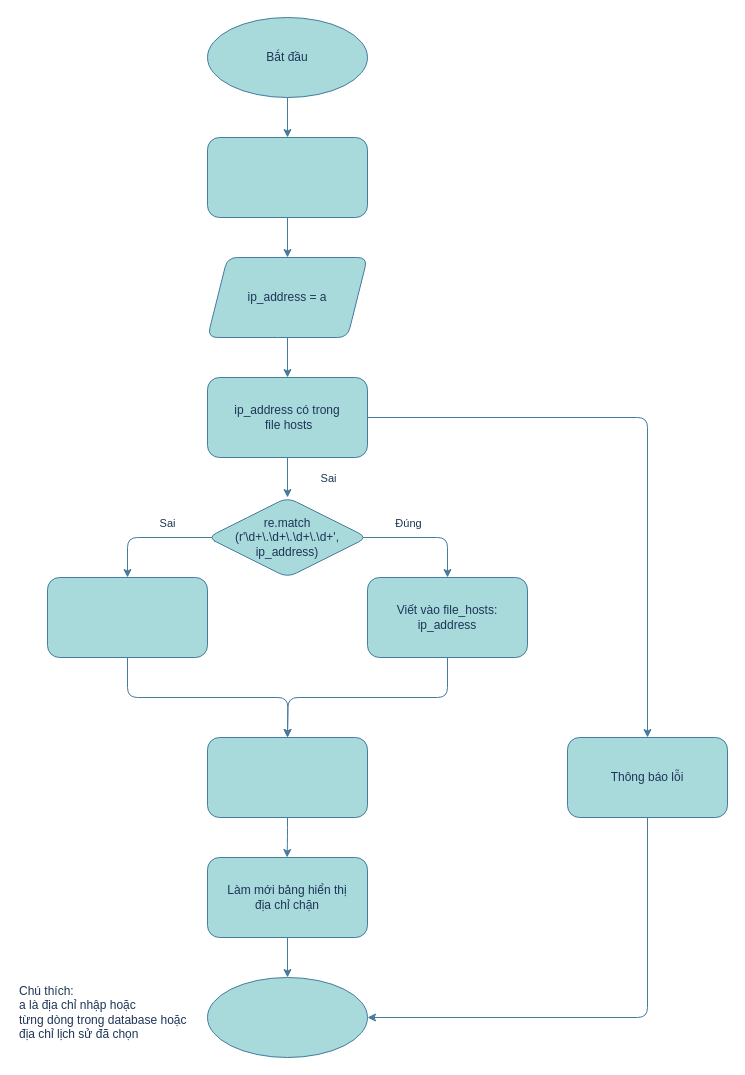
This 745x1075 diagram has some shape labels left out. The shapes that lost their labels are listed below. From the top down, each one's centre as x and y in pixels, then its label:
[287,177]: Nhận file_path
[127,617]: Viết vào file_hosts: "127.0.0.1"+ip_address
[287,777]: Thông báo thành công
[287,1017]: Kết thúc
